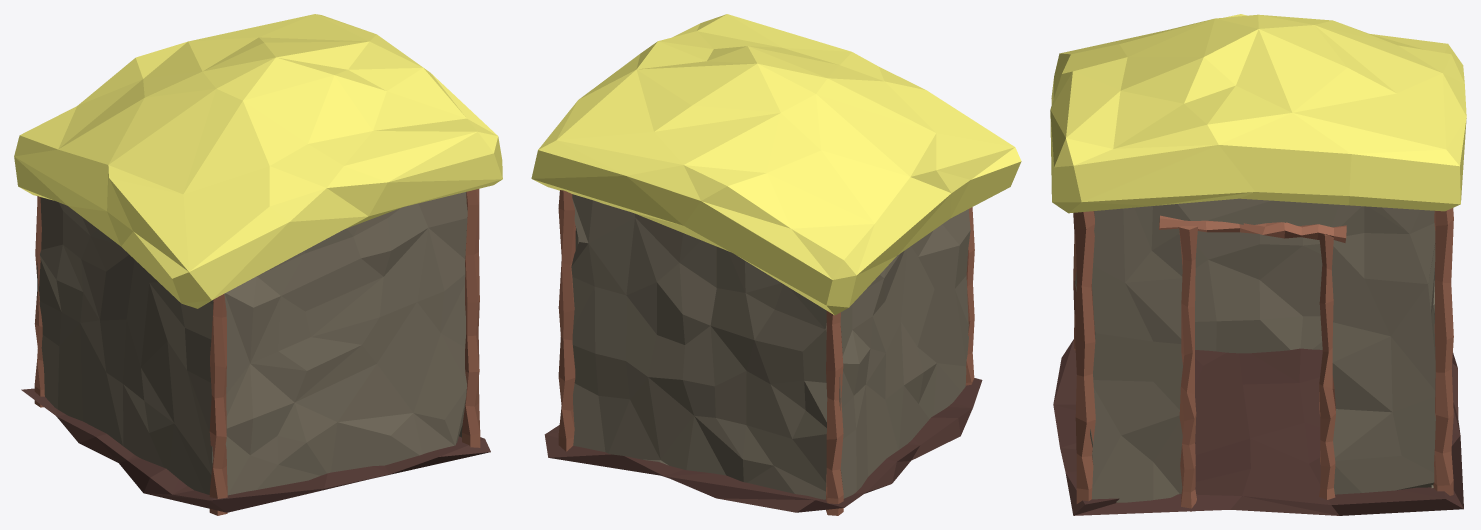
The model's file is TwigHut.fbx.
3 renders of one model, left to right at view 1: azimuth 30°, elevation 25°; view 2: azimuth 150°, elevation 25°; view 3: azimuth 270°, elevation 25°, orthographic. The views are drawn at different scales.
Parts seen in each view (by area): view 1: Cube.005, Cube.002, Cube.001, Cube, Cylinder, Cylinder.003, Cylinder.002; view 2: Cube.005, Cube.003, Cube.001, Cube, Cylinder.001, Cylinder.002, Cylinder.003; view 3: Cube.005, Cube.004, Cube, Cube.001, Cylinder, Cylinder.001, Cylinder.005, Cylinder.004, Cylinder.006.
Boxes of the visible parts, <box> form: Cube.005: <box>14,14,502,308</box>; Cube.002: <box>224,192,467,495</box>; Cube.001: <box>37,197,213,494</box>; Cube: <box>21,388,490,512</box>; Cylinder: <box>462,189,480,447</box>; Cylinder.003: <box>209,294,227,515</box>; Cylinder.002: <box>34,196,44,407</box>; Cube.005: <box>531,14,1021,315</box>; Cube.003: <box>571,194,827,499</box>; Cube.001: <box>826,209,970,498</box>; Cube: <box>544,378,982,512</box>; Cylinder.001: <box>558,190,575,451</box>; Cylinder.002: <box>826,311,843,515</box>; Cylinder.003: <box>965,207,974,385</box>; Cube.005: <box>1050,14,1466,213</box>; Cube.004: <box>1092,198,1435,502</box>; Cube: <box>1053,339,1463,515</box>; Cube.001: <box>1195,231,1322,353</box>; Cylinder: <box>1075,211,1095,503</box>; Cylinder.001: <box>1433,208,1453,495</box>; Cylinder.005: <box>1179,226,1197,511</box>; Cylinder.004: <box>1319,234,1335,499</box>; Cylinder.006: <box>1159,215,1346,242</box>.
Size of the model in its own units: 1142 by 1196 by 1084.
